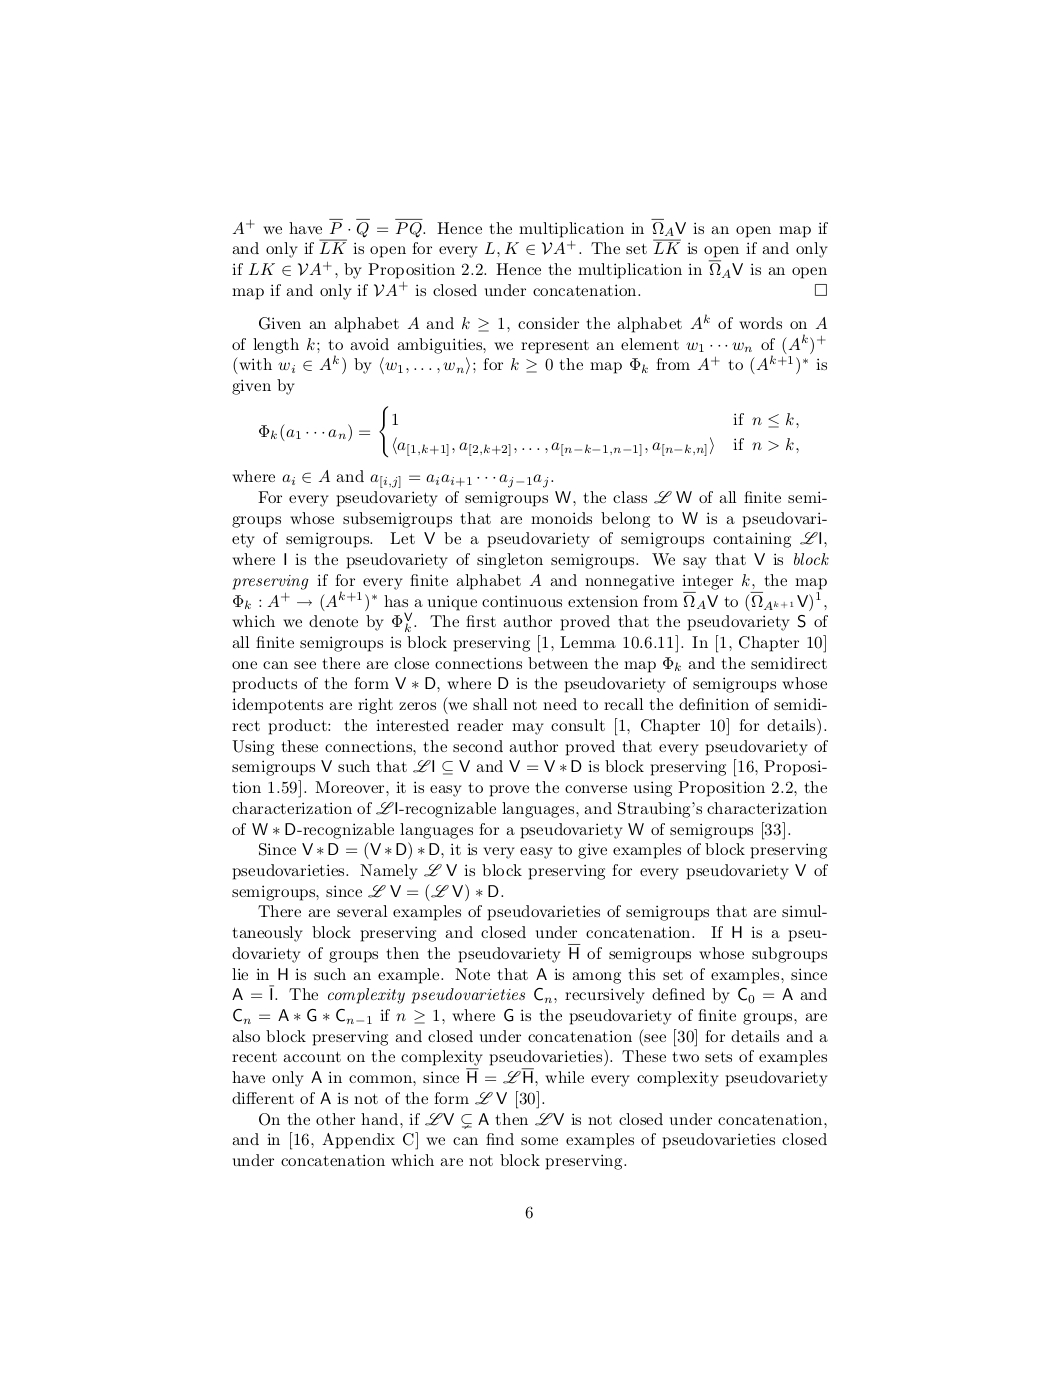formula: (259, 405, 798, 458)
